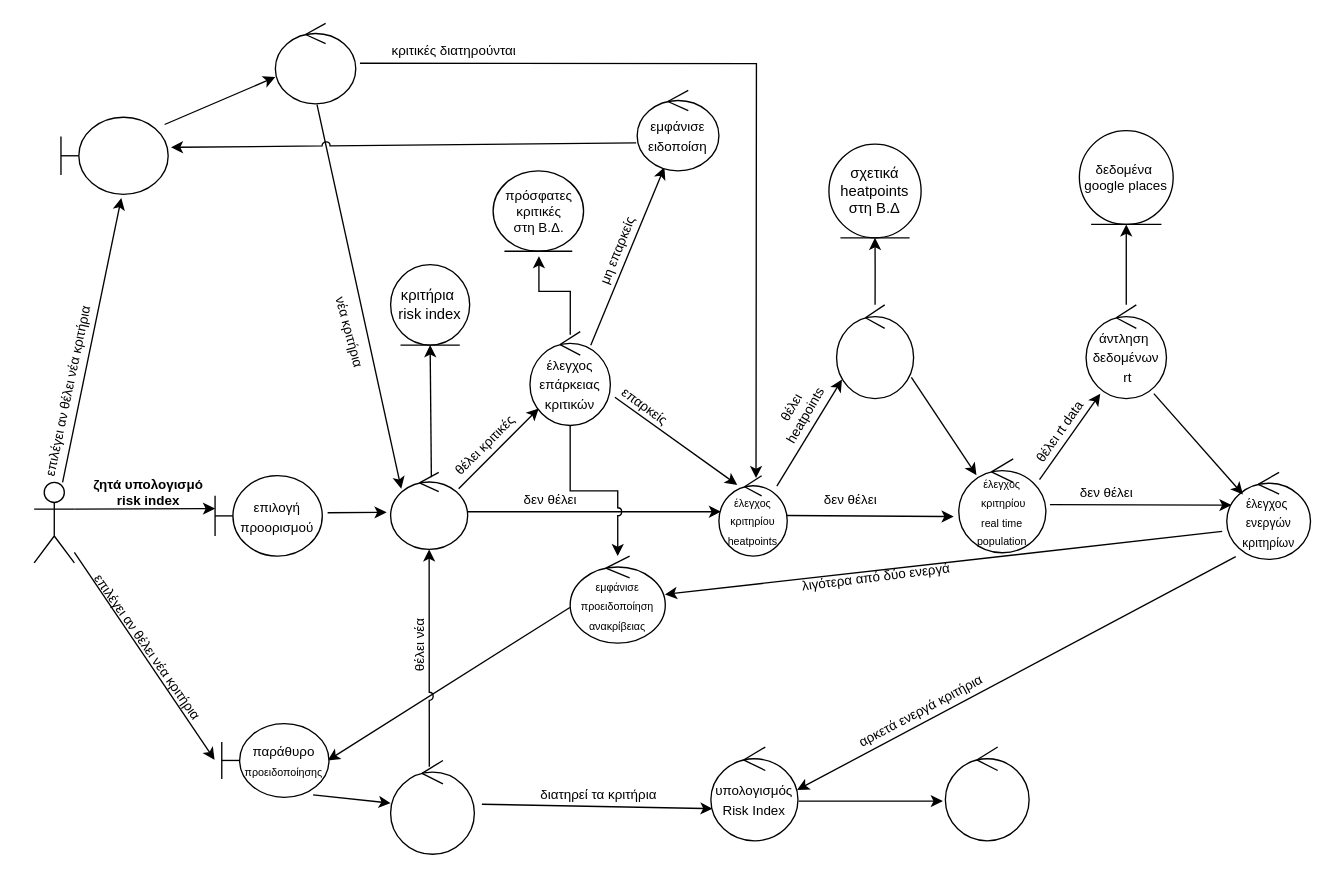
Image size: 1335x878. Some labels were removed from this diagram. Each missing label, with the box of its shape:
έλεγχος επιλογής: (389, 759, 474, 854)
έλεγχος κριτηρίου reviews: (389, 471, 468, 549)
ανα- κατεύθυνση: (274, 22, 356, 104)
αναζήτηση heatpoints: (835, 304, 914, 399)
αποστολή R.I. για εμφάνιση: (944, 746, 1029, 841)
παράθυρο επανυποβολής: (60, 116, 168, 194)
Χρήστης: (33, 481, 74, 563)
